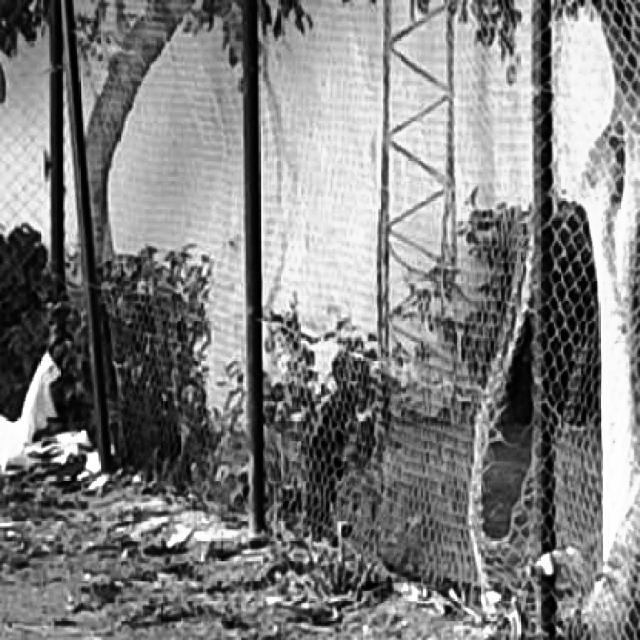anomaly-fence: (460, 266, 580, 622)
